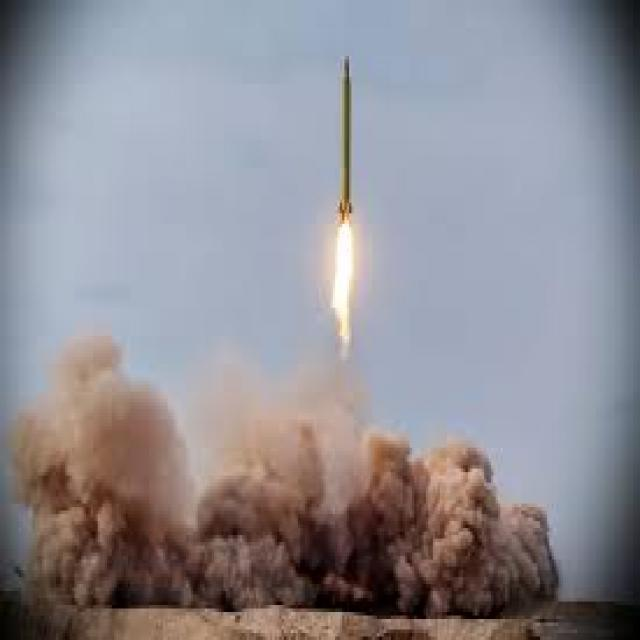missile: (337, 56, 356, 227)
